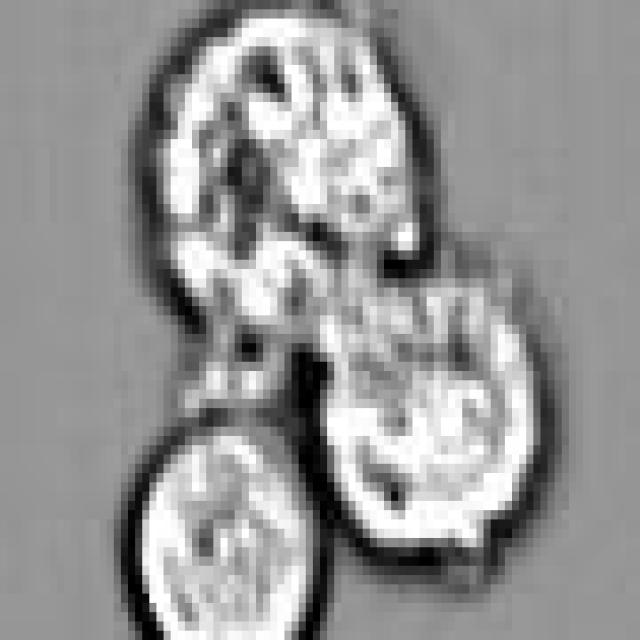WBC: (149, 9, 427, 362), (320, 269, 533, 547), (142, 417, 313, 640)
